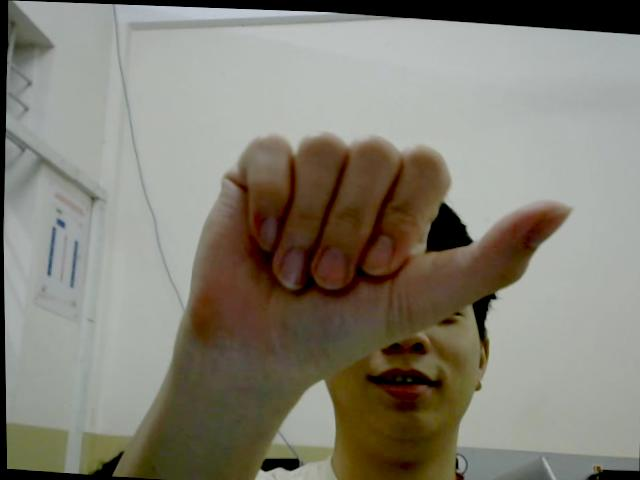A: (177, 115, 579, 351)
